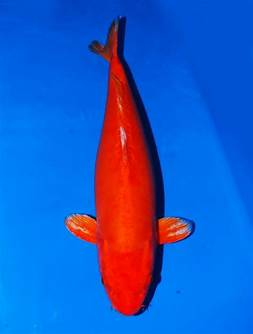red: (63, 13, 194, 315)
